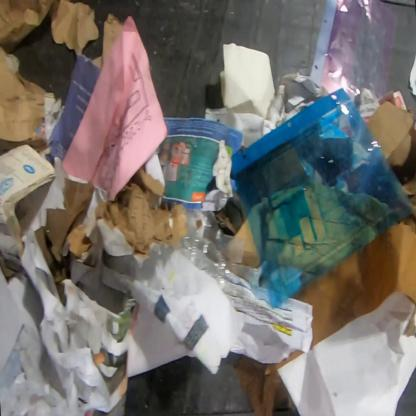cardboard: (291, 215, 415, 352), (95, 163, 187, 258), (367, 97, 416, 220), (233, 349, 305, 416), (214, 201, 260, 268), (62, 219, 93, 258)
soft_plastic: (231, 84, 415, 310), (308, 0, 400, 123), (175, 207, 261, 295), (104, 241, 175, 284)
